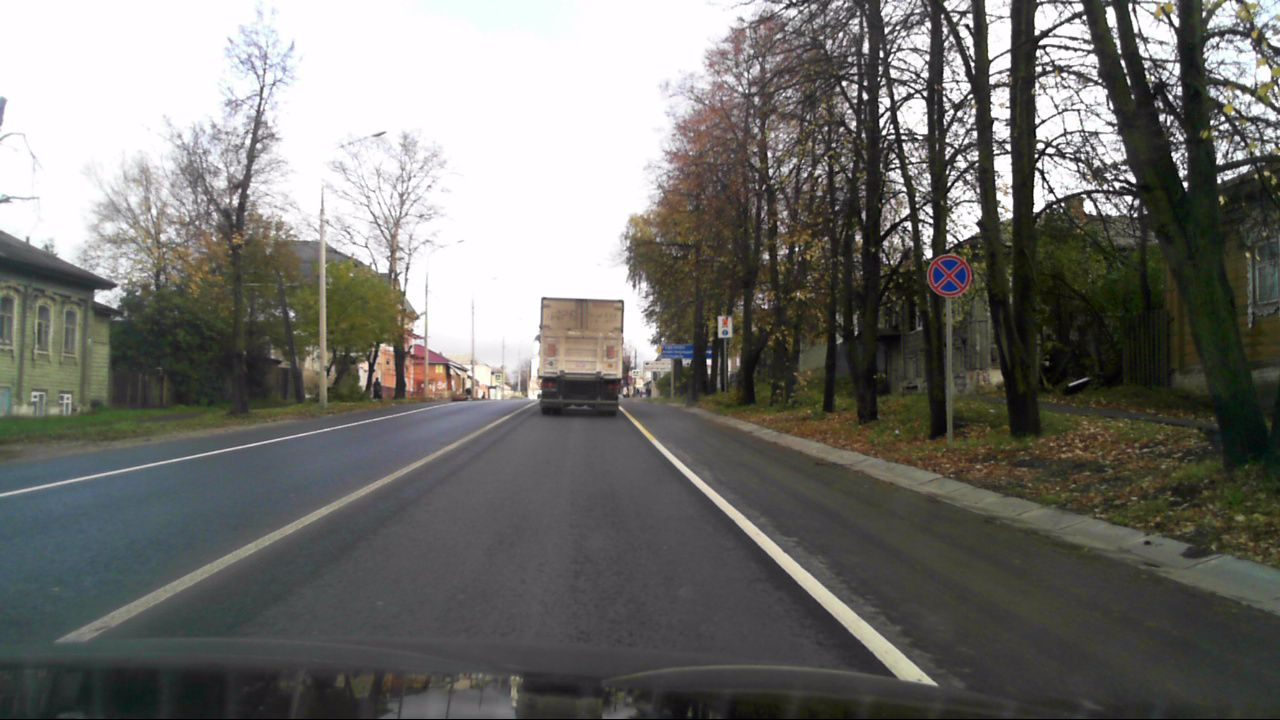No Parking: (928, 253, 971, 298)
